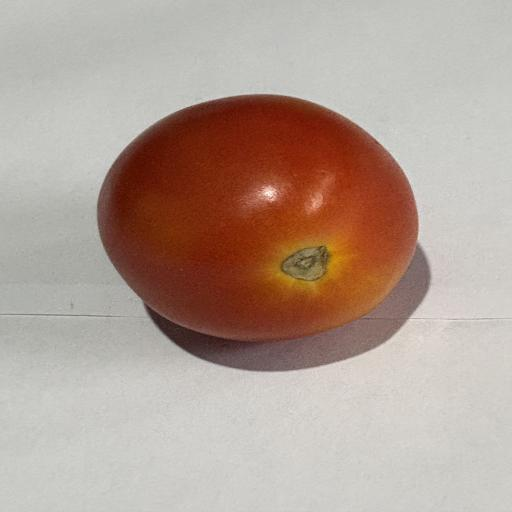ripe: (98, 95, 418, 341)
